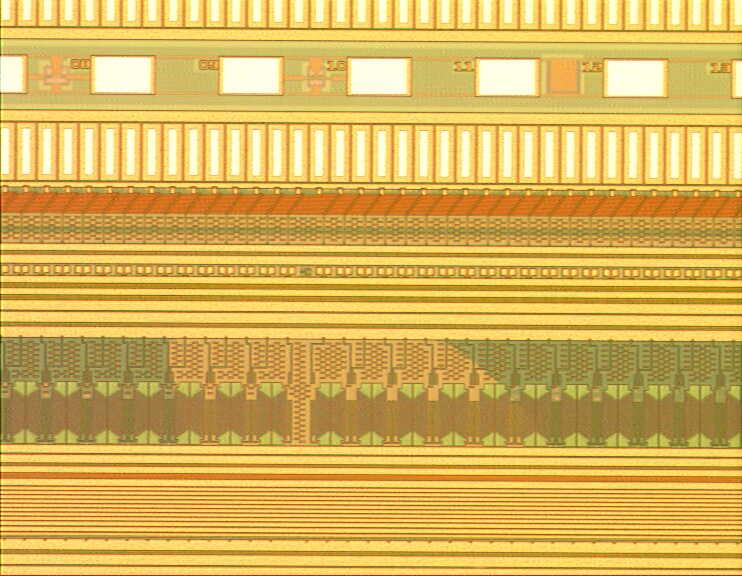COATING BAD: (165, 337, 542, 462)
